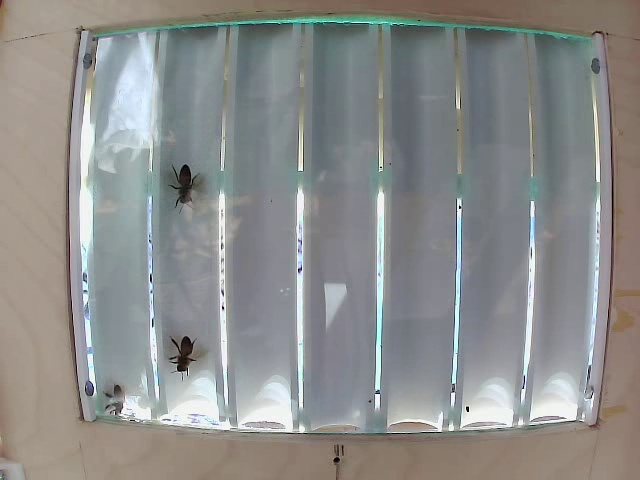bee: (163, 322, 211, 379), (171, 158, 216, 212)
